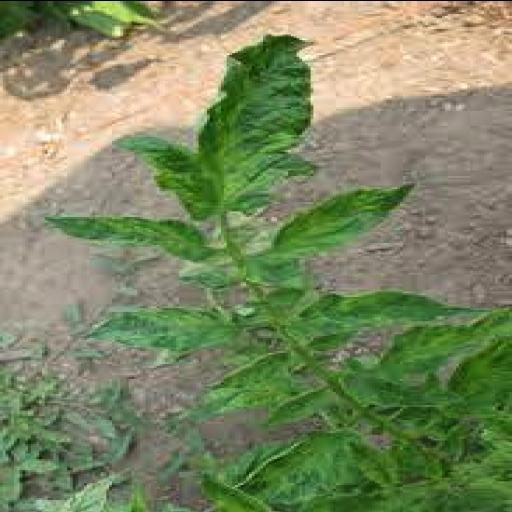Mosaic Virus: (110, 34, 318, 228), (261, 180, 417, 262), (43, 215, 209, 263), (82, 304, 248, 350)
